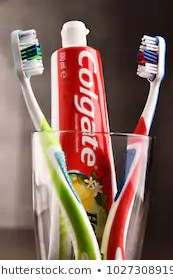toothbrush: (100, 30, 167, 254), (9, 29, 51, 224)
